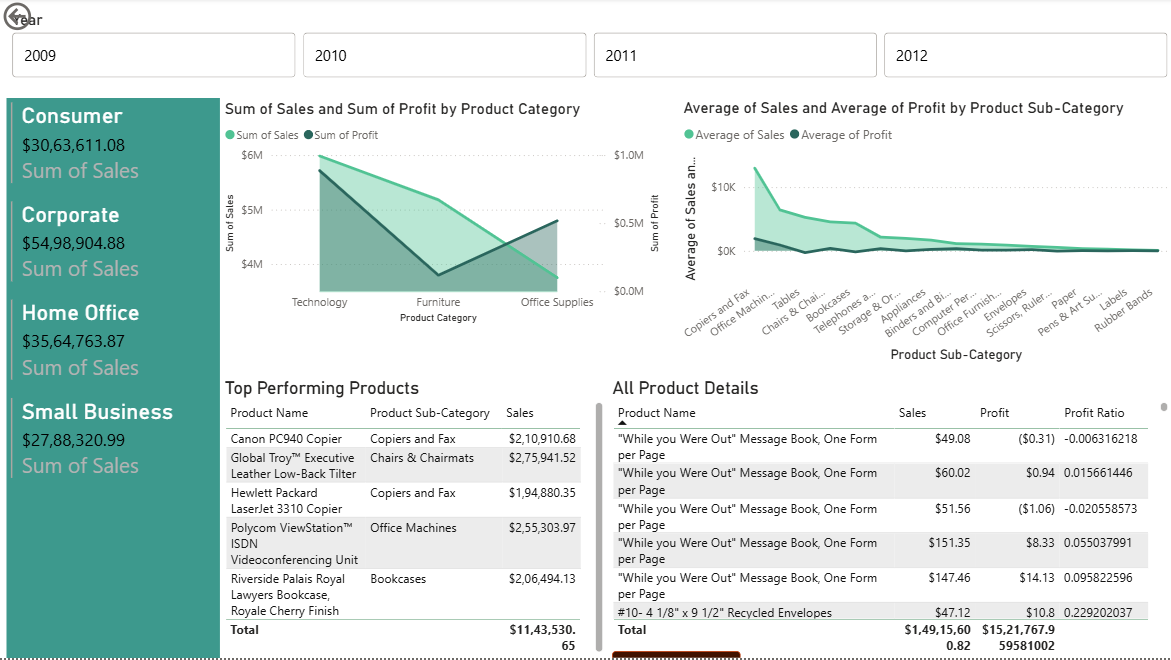

What the dashboard file says about the page in this screenshot:
{"tool":"powerbi","page":{"name":" Product Details","canvas":[1280,720],"ordinal":2},"visuals":[{"type":"advancedSlicerVisual","fields":{"Values":["Orders.Year"]},"box":[9.3,13.7,1270.7,78.2],"z":0},{"type":"multiRowCard","fields":{"Values":["Orders.Customer Segment","Sum(Orders.Sales)"]},"box":[8.2,109.1,233.1,610.8],"z":1000},{"type":"areaChart","fields":{"Category":["Orders.Product Category"],"Y":["Sum(Orders.Sales)"],"Y2":["Sum(Orders.Profit)"]},"box":[241.3,110.4,485.4,249.5],"z":2000},{"type":"areaChart","fields":{"Category":["Orders.Product Sub-Category"],"Y":["Avg(Orders.Sales)","Avg(Orders.Profit)"]},"box":[741.7,109.1,538.6,293.1],"z":3000},{"type":"tableEx","title":"Top Performing Products","fields":{"Values":["Orders.Product Name","Orders.Product Sub-Category","Sum(Orders.Sales)"]},"box":[241.3,414.5,422.7,305.4],"z":4000},{"type":"tableEx","title":"All Product Details","fields":{"Values":["Orders.Product Name","Sum(Orders.Sales)","Sum(Orders.Profit)","Orders.Profit Ratio"]},"box":[664,414.5,616.3,305.4],"z":5000},{"type":"actionButton","box":[0,0,100,40],"z":6000},{"type":"qnaVisual","box":[664,707.6,150,12.3],"z":7000}]}

Visuals, with their boxes on the page's 1280x720 design canvas (x1, y1, x2, y2). These are canvas units, not pixel positions in the 1171x660 screenshot, which may show the page scaled, cropped or inside an application window:
advancedSlicerVisual - Orders.Year: (9,14,1280,92)
multiRowCard - Orders.Customer Segment x Sum(Orders.Sales): (8,109,241,720)
areaChart - Orders.Product Category x Sum(Orders.Sales): (241,110,727,360)
areaChart - Orders.Product Sub-Category x Avg(Orders.Sales): (742,109,1280,402)
"Top Performing Products" tableEx: (241,414,664,720)
"All Product Details" tableEx: (664,414,1280,720)
actionButton: (0,0,100,40)
qnaVisual: (664,708,814,720)
